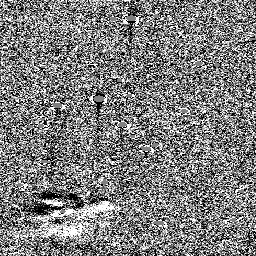LE: (24, 193, 79, 225), (84, 193, 114, 216)
